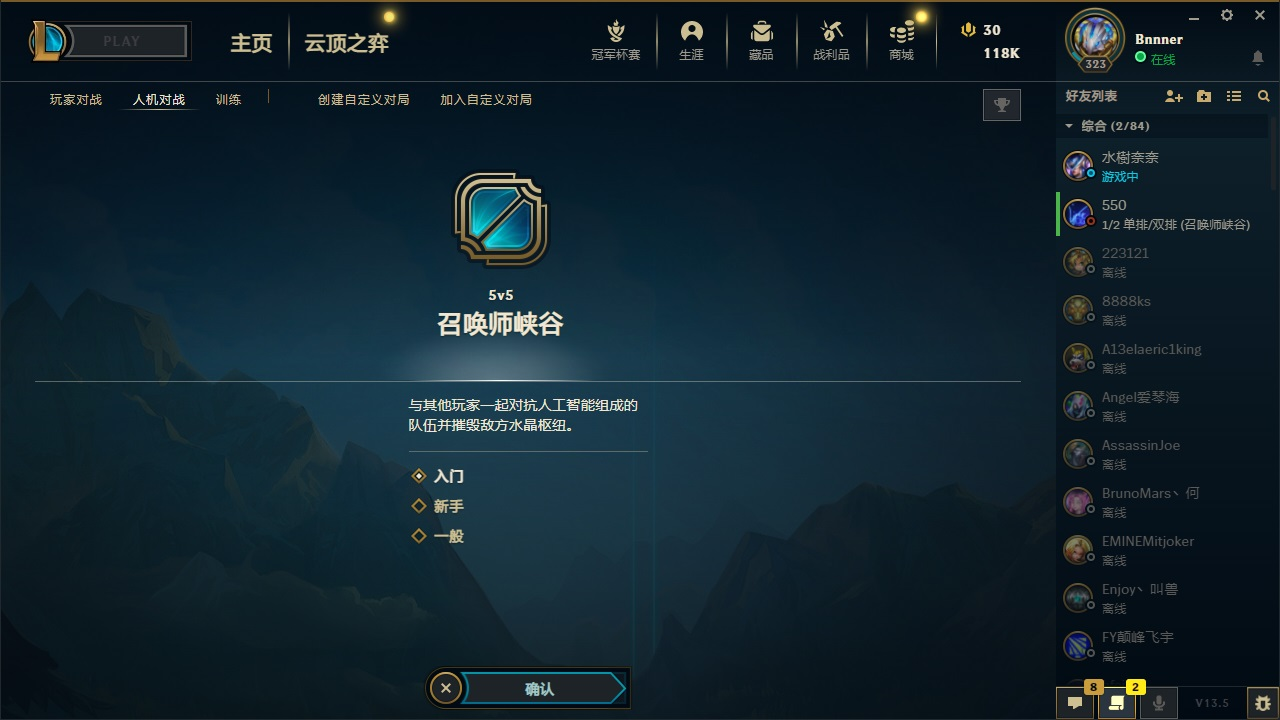HSPLAY: (58, 12, 193, 67)
QR: (464, 670, 615, 707)
RMRJ: (404, 459, 477, 489)
